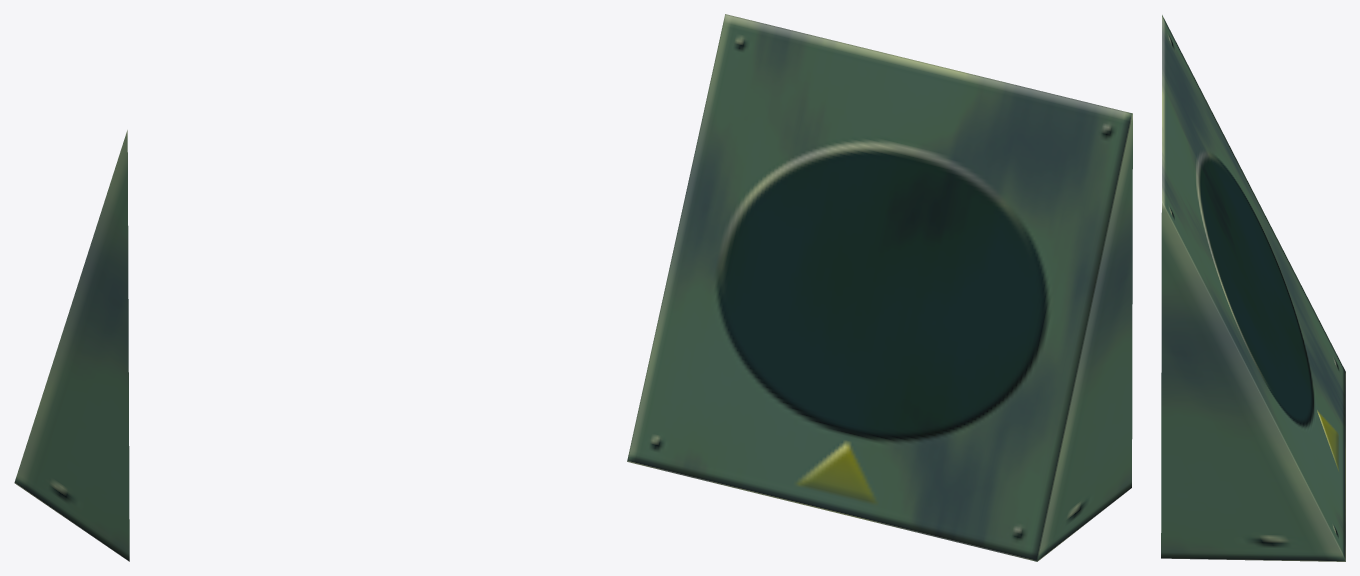
3 renders of one model, left to right at view 1: azimuth 30°, elevation 25°; view 2: azimuth 150°, elevation 25°; view 3: azimuth 270°, elevation 25°, orthographic. The views are drawn at different scales.
Visible parts, largest first — view 1: Object02; view 2: Object02; view 3: Object02.
Part boxes in pixels (box(x1,y1,x2,y2)): Object02: box(14, 130, 129, 561); Object02: box(627, 14, 1132, 561); Object02: box(1161, 15, 1345, 561).
Size of the model in its own units: 55.83 by 49.04 by 22.92.
Materials: 1 (1 with a texture image).
